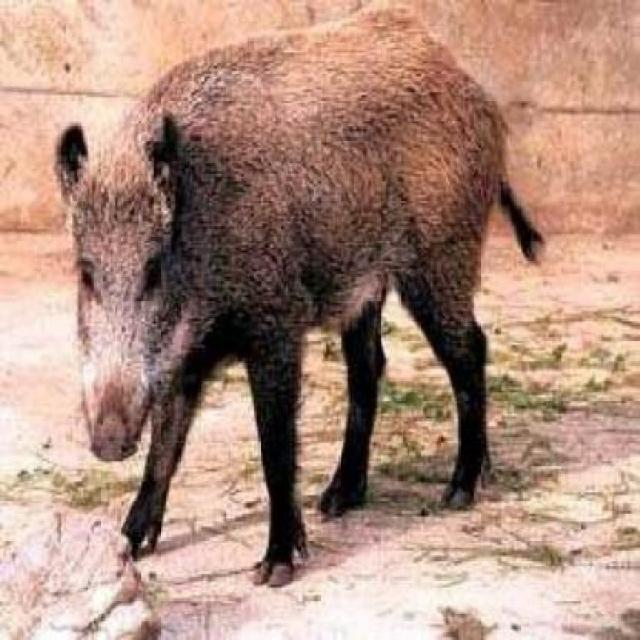pig: (26, 3, 544, 579)
